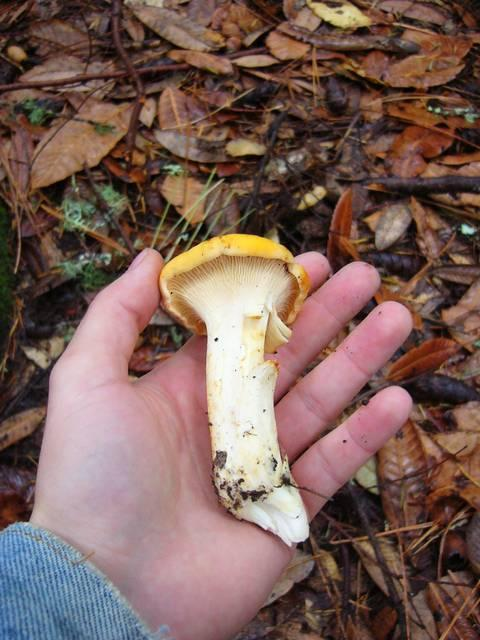Edible Mushroom: (157, 231, 312, 547)
